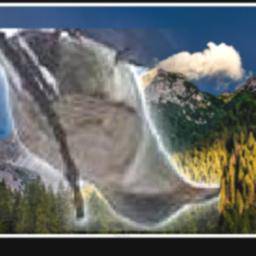Cuckoo: (0, 29, 220, 232)
